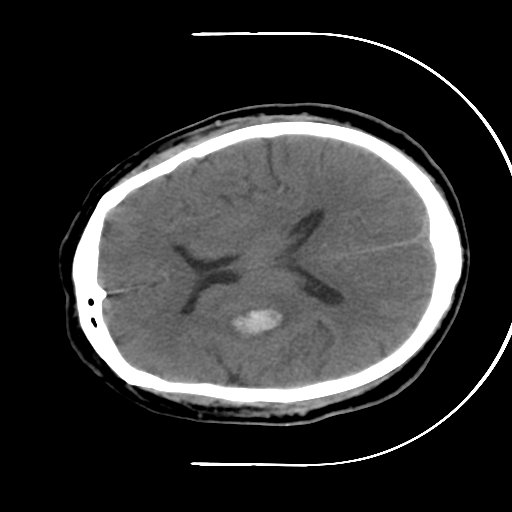a: (215, 291, 303, 351)
